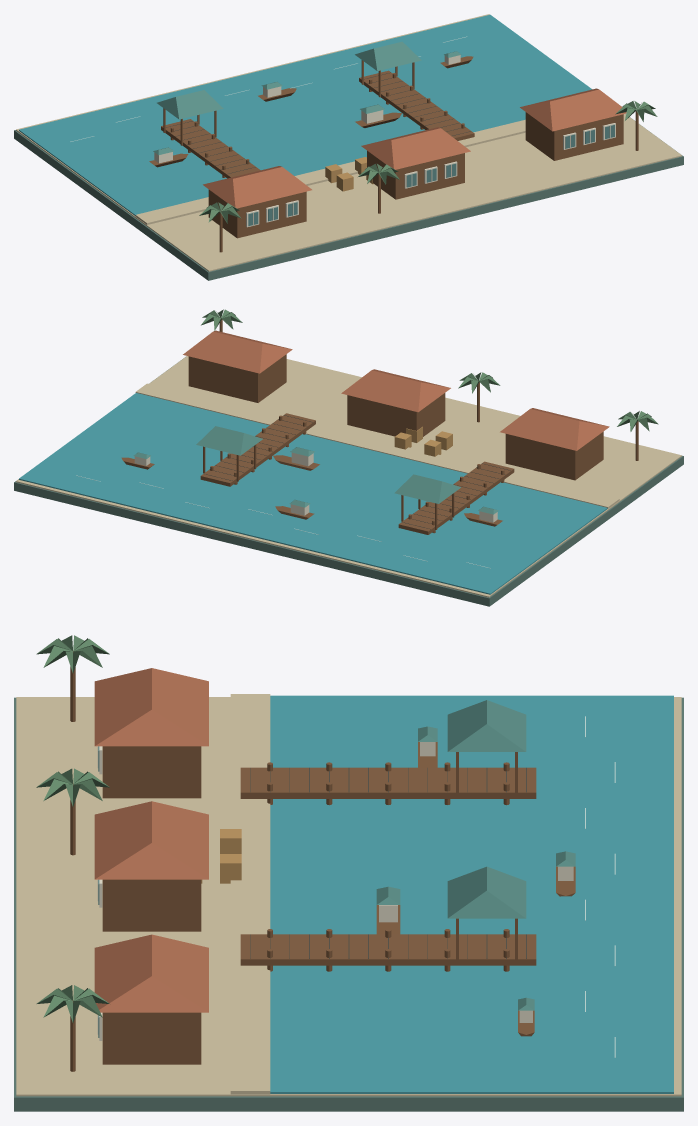
3 views of the same model, one above another, from view 1: azimuth 30°, elevation 25°; view 2: azimuth 150°, elevation 25°; view 3: azimuth 270°, elevation 25° (orthographic). The views are drawn at different scales.
Visible parts, largest first — view 1: Water | batched geometry, Sand | batched geometry, Timber | batched geometry, Terracotta | batched geometry, Plinth | batched geometry, Teal | batched geometry, Ivory | batched geometry, Leaf | batched geometry, Glass | batched geometry, Bronze | batched geometry, Charcoal | batched geometry; view 2: Water | batched geometry, Sand | batched geometry, Timber | batched geometry, Terracotta | batched geometry, Plinth | batched geometry, Teal | batched geometry, Leaf | batched geometry, Bronze | batched geometry, Ivory | batched geometry, Charcoal | batched geometry; view 3: Water | batched geometry, Sand | batched geometry, Timber | batched geometry, Terracotta | batched geometry, Plinth | batched geometry, Teal | batched geometry, Leaf | batched geometry, Ivory | batched geometry, Bronze | batched geometry, Charcoal | batched geometry.
Part boxes in pixels (x1,y1,x2,y2): Water | batched geometry: (19, 14, 592, 215); Sand | batched geometry: (16, 14, 681, 271); Timber | batched geometry: (149, 56, 638, 252); Terracotta | batched geometry: (203, 88, 626, 208); Plinth | batched geometry: (14, 117, 683, 280); Teal | batched geometry: (153, 41, 461, 155); Ivory | batched geometry: (154, 55, 615, 227); Leaf | batched geometry: (199, 101, 657, 223); Glass | batched geometry: (248, 125, 614, 226); Bronze | batched geometry: (325, 157, 373, 191); Charcoal | batched geometry: (166, 72, 470, 173); Water | batched geometry: (19, 393, 607, 594); Sand | batched geometry: (16, 356, 681, 597); Timber | batched geometry: (121, 318, 638, 534); Terracotta | batched geometry: (183, 330, 609, 450); Plinth | batched geometry: (14, 358, 683, 606); Teal | batched geometry: (133, 426, 498, 514); Leaf | batched geometry: (201, 309, 658, 431); Bronze | batched geometry: (394, 426, 452, 456); Ivory | batched geometry: (134, 452, 497, 522); Charcoal | batched geometry: (205, 415, 510, 529); Water | batched geometry: (270, 695, 673, 1093); Sand | batched geometry: (16, 694, 681, 1096); Timber | batched geometry: (70, 651, 575, 1071); Terracotta | batched geometry: (94, 668, 208, 1012); Plinth | batched geometry: (14, 697, 683, 1111); Teal | batched geometry: (376, 700, 575, 1010); Leaf | batched geometry: (36, 635, 109, 1023); Ivory | batched geometry: (97, 742, 573, 1040); Bronze | batched geometry: (201, 829, 241, 883); Charcoal | batched geometry: (250, 767, 526, 958).
Size of the model in its own units: 96 by 11.2 by 68.
